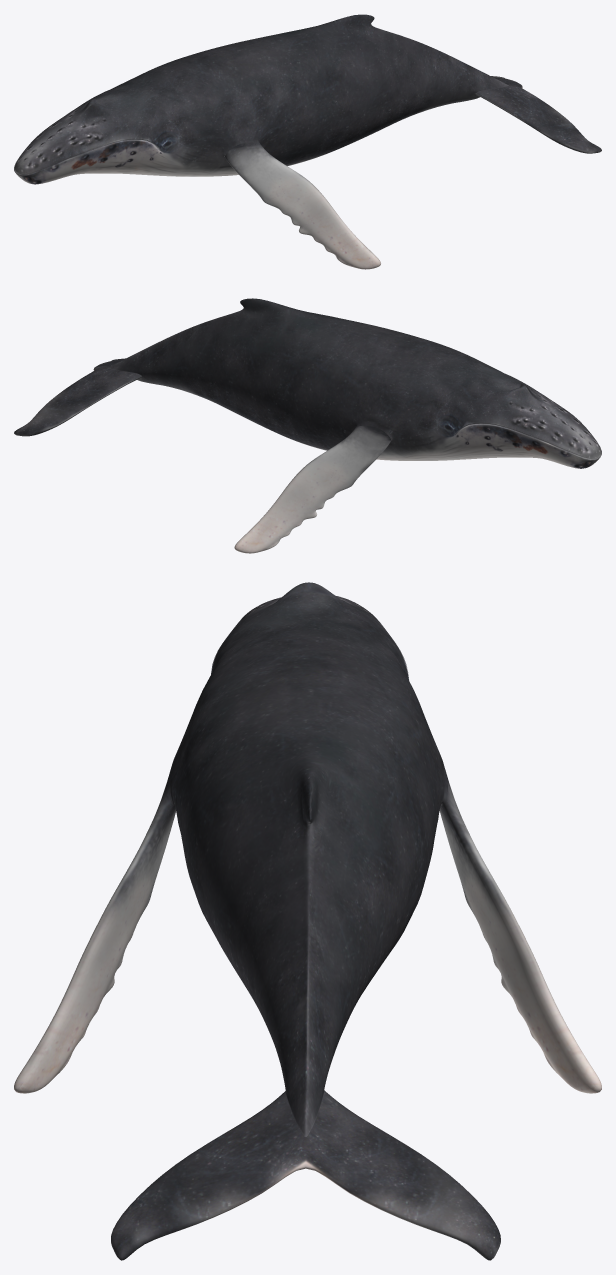
Rendered from whale.glb.
The picture shows the model from 3 angles, top to bottom: view 1: azimuth 30°, elevation 25°; view 2: azimuth 150°, elevation 25°; view 3: azimuth 270°, elevation 25°; orthographic projection. The views are drawn at different scales.
Parts seen in each view (by area): view 1: 10054_Whale_v2_L3; view 2: 10054_Whale_v2_L3; view 3: 10054_Whale_v2_L3.
Boxes of the visible parts, left/top/right/bottom form: 10054_Whale_v2_L3: left=14, top=14, right=601, bottom=269; 10054_Whale_v2_L3: left=14, top=298, right=601, bottom=553; 10054_Whale_v2_L3: left=14, top=582, right=601, bottom=1260.
Bounding box in the file's own units: 318 × 106 × 156.
1 material, 1 textured.
